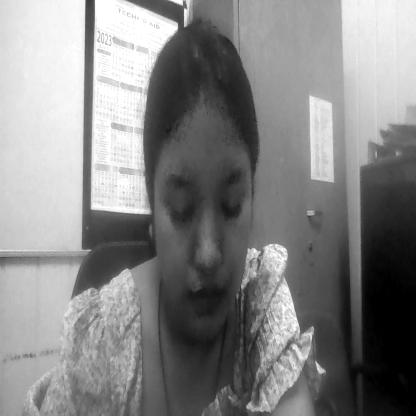Normal: (166, 123, 260, 348)
